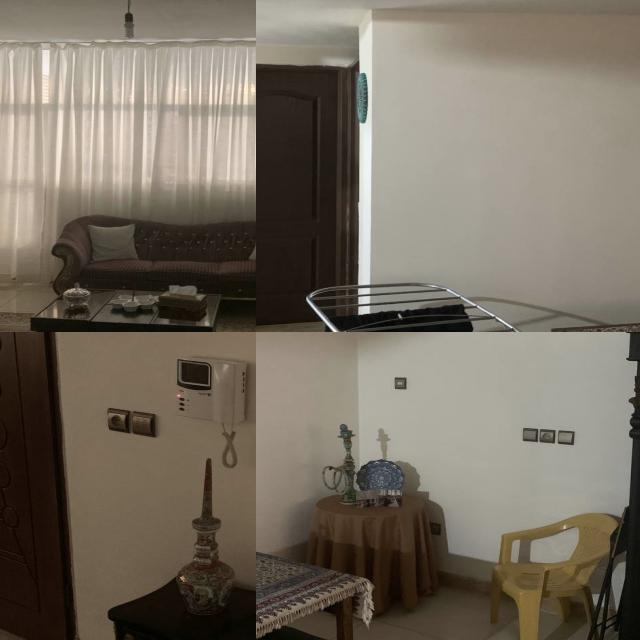Floor: (0, 268, 62, 313)
Wall: (357, 332, 637, 563), (49, 332, 256, 640), (256, 332, 342, 555)
